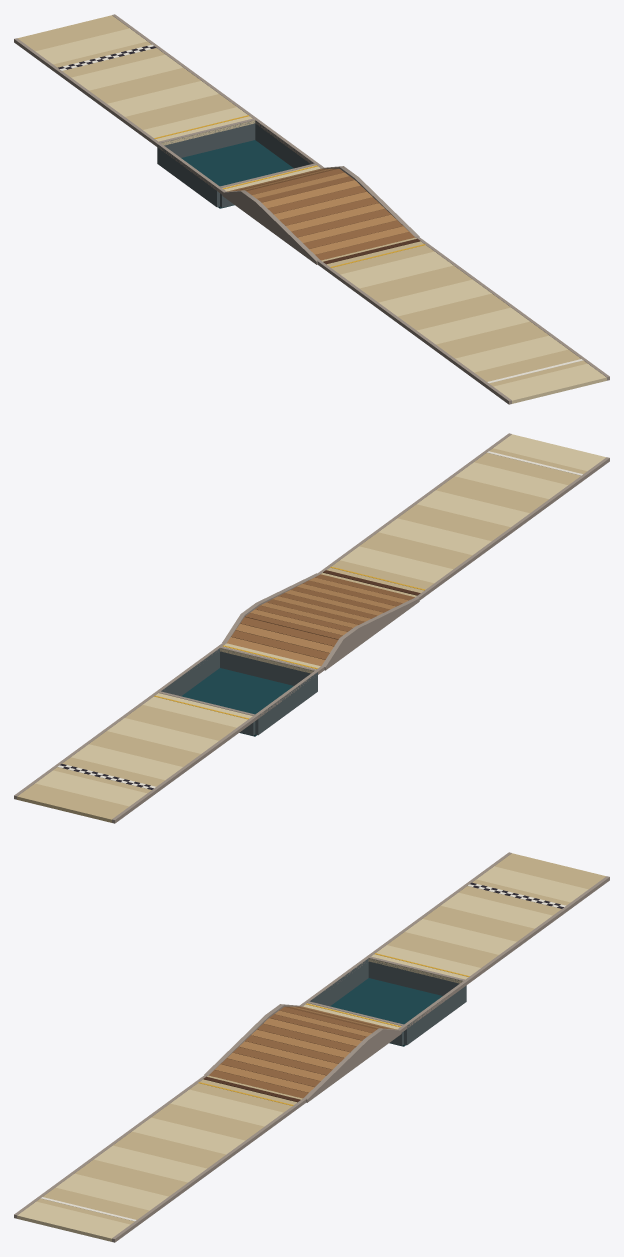
File: dash_course.glb
3 renders of one model, top to bottom at view 1: azimuth 30°, elevation 25°; view 2: azimuth 150°, elevation 25°; view 3: azimuth 330°, elevation 25°, orthographic.
Parts seen in each view (by area): view 1: dash_course; view 2: dash_course; view 3: dash_course.
Part boxes in pixels (bbox=[...]): dash_course: bbox=[14, 14, 609, 404]; dash_course: bbox=[14, 433, 609, 823]; dash_course: bbox=[14, 852, 609, 1242].
Bounding box in the file's own units: 9.8 × 3.35 × 81.5.
